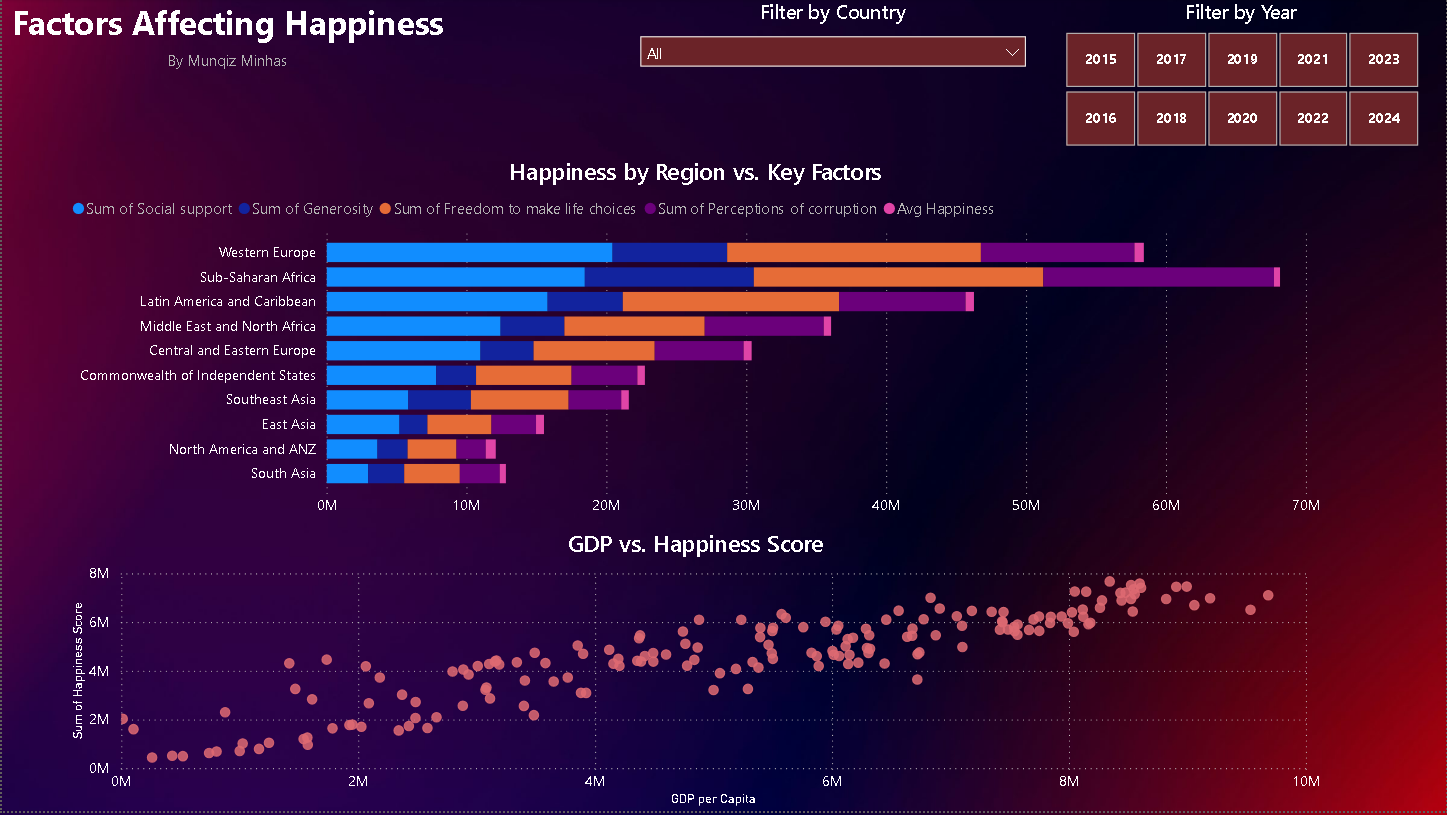

What the dashboard file says about the page in this screenshot:
{"tool":"powerbi","page":{"name":"Factors Affecting Happiness","canvas":[1280,720],"ordinal":1},"visuals":[{"type":"textbox","title":"Factors Affecting Happiness","box":[0,0,401.1,64.1],"z":0},{"type":"scatterChart","title":"GDP vs. Happiness Score","fields":{"Y":["Sum(world_happiness_combined.Happiness score)"],"X":["Sum(world_happiness_combined.GDP per capita)"],"Category":["world_happiness_combined.Country"]},"box":[57,467.1,1116.4,252.7],"z":1000},{"type":"barChart","title":"Happiness by Region vs. Key Factors","fields":{"Category":["world_happiness_combined.Regional indicator"],"Y":["Sum(world_happiness_combined.Social support)","Sum(world_happiness_combined.Generosity)","Sum(world_happiness_combined.Freedom to make life choices)","Sum(world_happiness_combined.Perceptions of corruption)","world_happiness_combined.Avg Happiness"]},"box":[57,137.7,1116.4,329.3],"z":2000},{"type":"slicer","title":"Filter by Year","fields":{"Values":["world_happiness_combined.Year Custom"]},"box":[917.8,0,362.2,137.3],"z":3000},{"type":"slicer","title":"Filter by Country","fields":{"Values":["world_happiness_combined.Country"]},"box":[555.5,0,362.2,75],"z":4000}]}

Visuals, with their boxes in screenshot pixels (x1, y1, x2, y2), scaled from the page's 1280x720 canvas onto the 1447x815 screenshot:
"Factors Affecting Happiness" textbox: pyautogui.locateOnScreen(0, 0, 453, 73)
"GDP vs. Happiness Score" scatterChart: pyautogui.locateOnScreen(64, 529, 1326, 814)
"Happiness by Region vs. Key Factors" barChart: pyautogui.locateOnScreen(64, 156, 1326, 529)
"Filter by Year" slicer: pyautogui.locateOnScreen(1038, 0, 1446, 155)
"Filter by Country" slicer: pyautogui.locateOnScreen(628, 0, 1037, 85)
